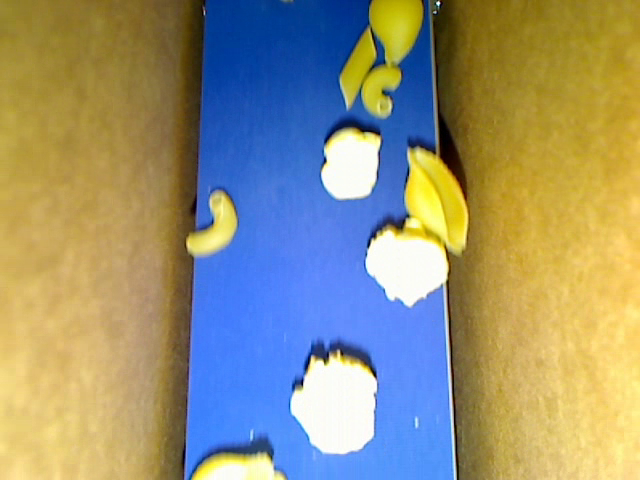elbow: (184, 188, 238, 257), (361, 64, 402, 119)
penne: (338, 26, 376, 110)
shell: (404, 145, 469, 255), (367, 1, 422, 67)
